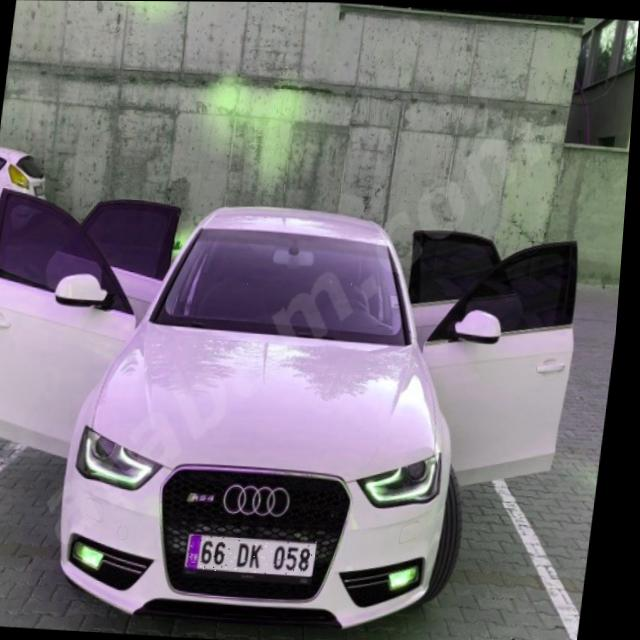license_plate: (192, 534, 326, 577)
